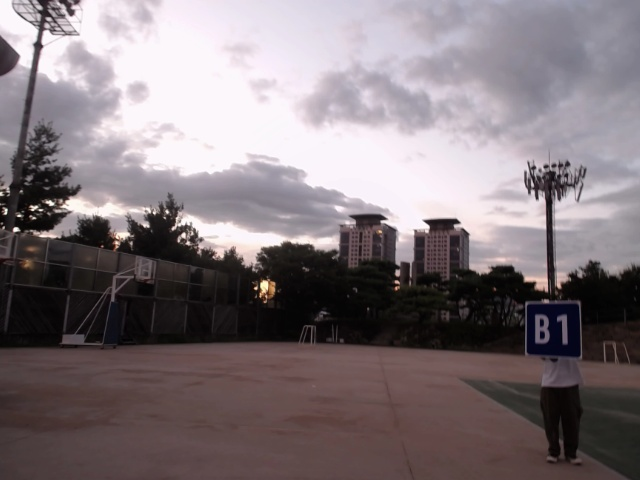delivery_b1: (525, 302, 582, 358)
